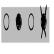correct: (16, 11, 22, 33)
not correct: (40, 3, 47, 40)
